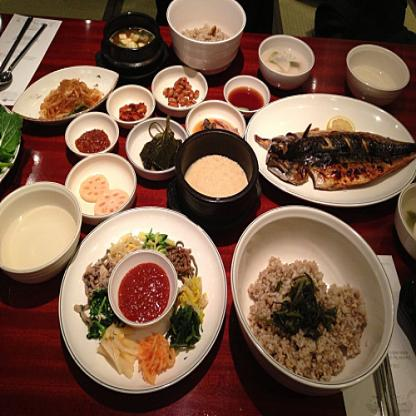Peixe: (260, 124, 416, 186)
